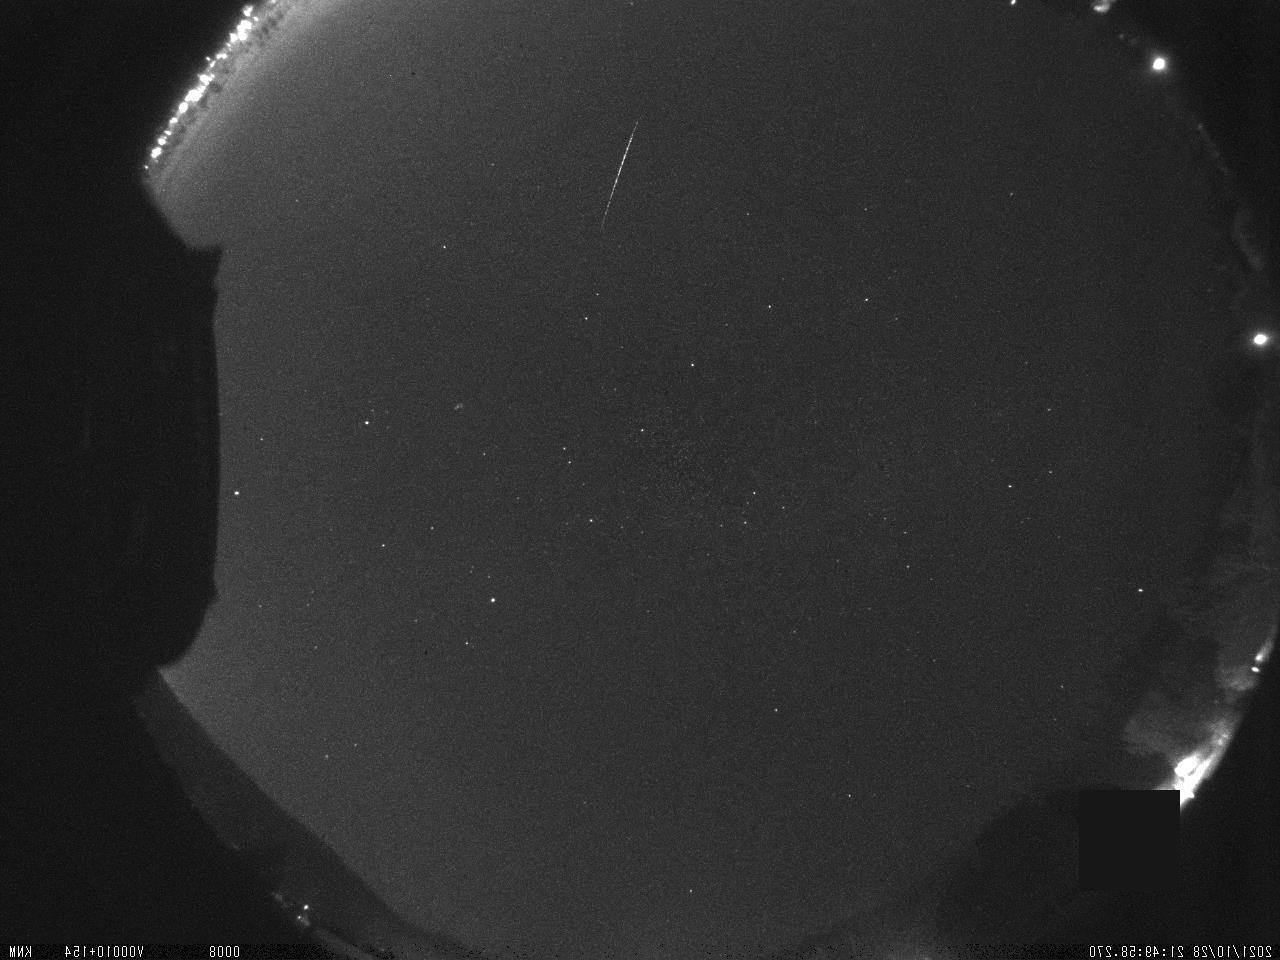meteor: (585, 102, 665, 236)
